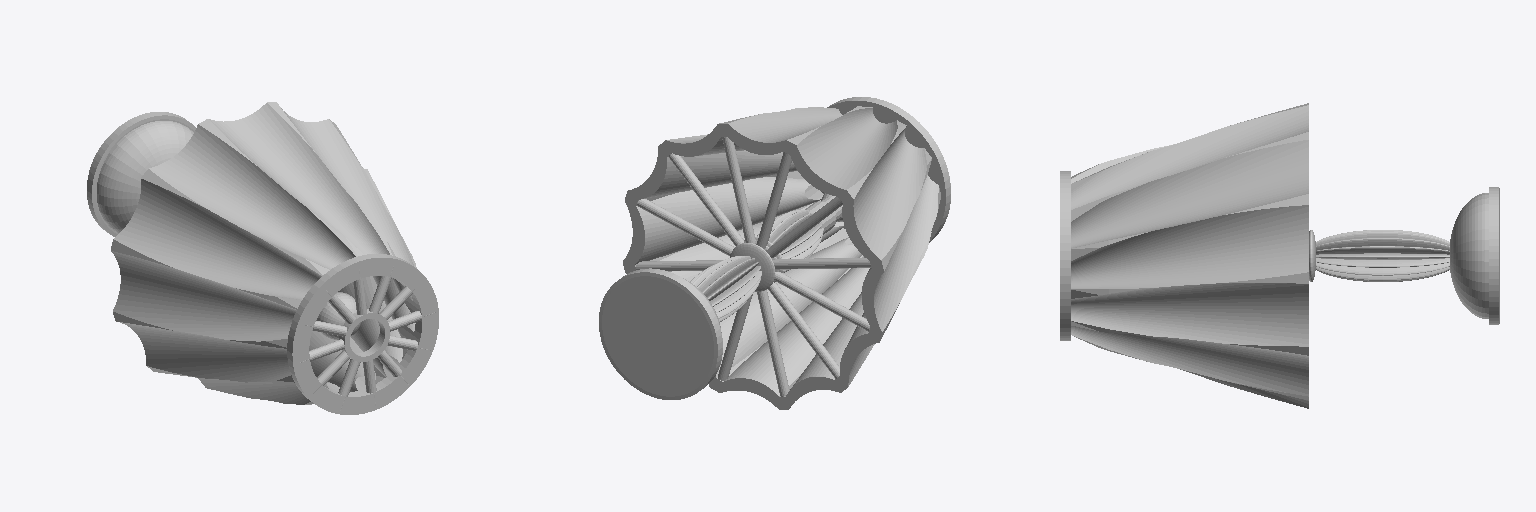
File: tinker_1.obj
3 renders of one model, left to right at view 1: azimuth 30°, elevation 25°; view 2: azimuth 150°, elevation 25°; view 3: azimuth 270°, elevation 25°, orthographic.
Parts seen in each view (by area): view 1: obj_0; view 2: obj_0; view 3: obj_0.
Part boxes in pixels (left/top/right/bottom): obj_0: left=87, top=102, right=438, bottom=414; obj_0: left=599, top=97, right=950, bottom=409; obj_0: left=1060, top=103, right=1499, bottom=408.
Size of the model in its own units: 11.4 by 11.4 by 16.59.